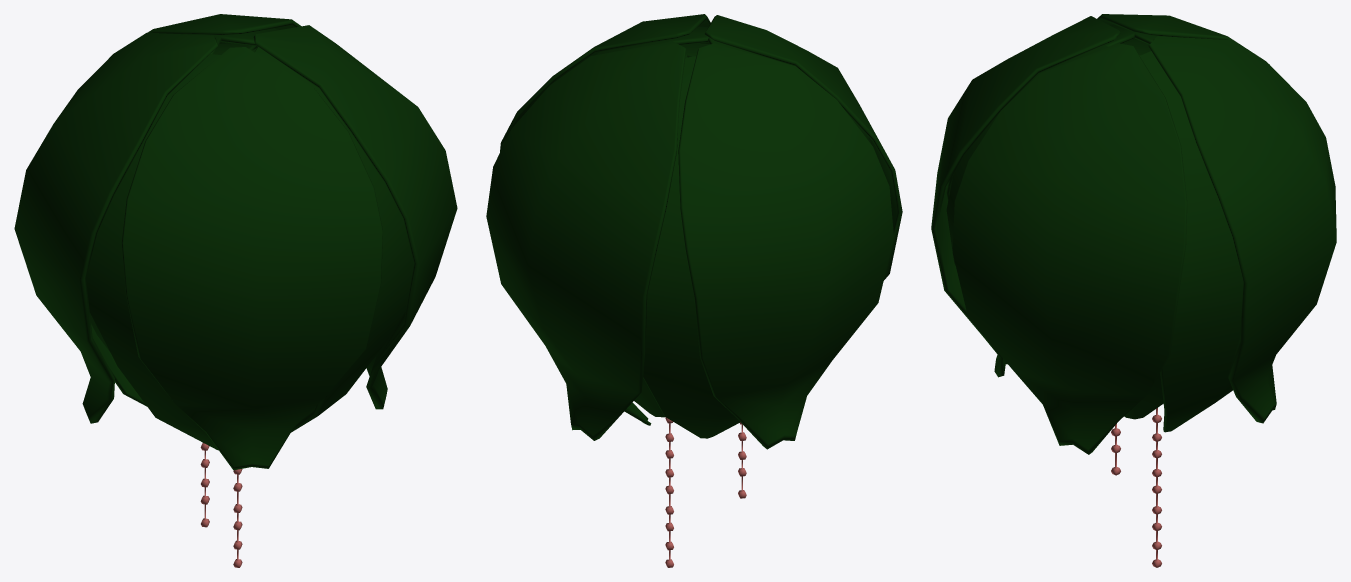
File: ModularFlower_LuminescentFlower00.fbx
3 views of the same model, side by side, from view 1: azimuth 30°, elevation 25°; view 2: azimuth 150°, elevation 25°; view 3: azimuth 270°, elevation 25° (orthographic). The views are drawn at different scales.
Parts seen in each view (by area): view 1: FleursLuminescentes; view 2: FleursLuminescentes; view 3: FleursLuminescentes.
Boxes of the visible parts, x1=… form: FleursLuminescentes: x1=14, y1=14, x2=457, y2=567; FleursLuminescentes: x1=486, y1=14, x2=902, y2=567; FleursLuminescentes: x1=931, y1=14, x2=1336, y2=567.
Size of the model in its own units: 315 by 449 by 315.
